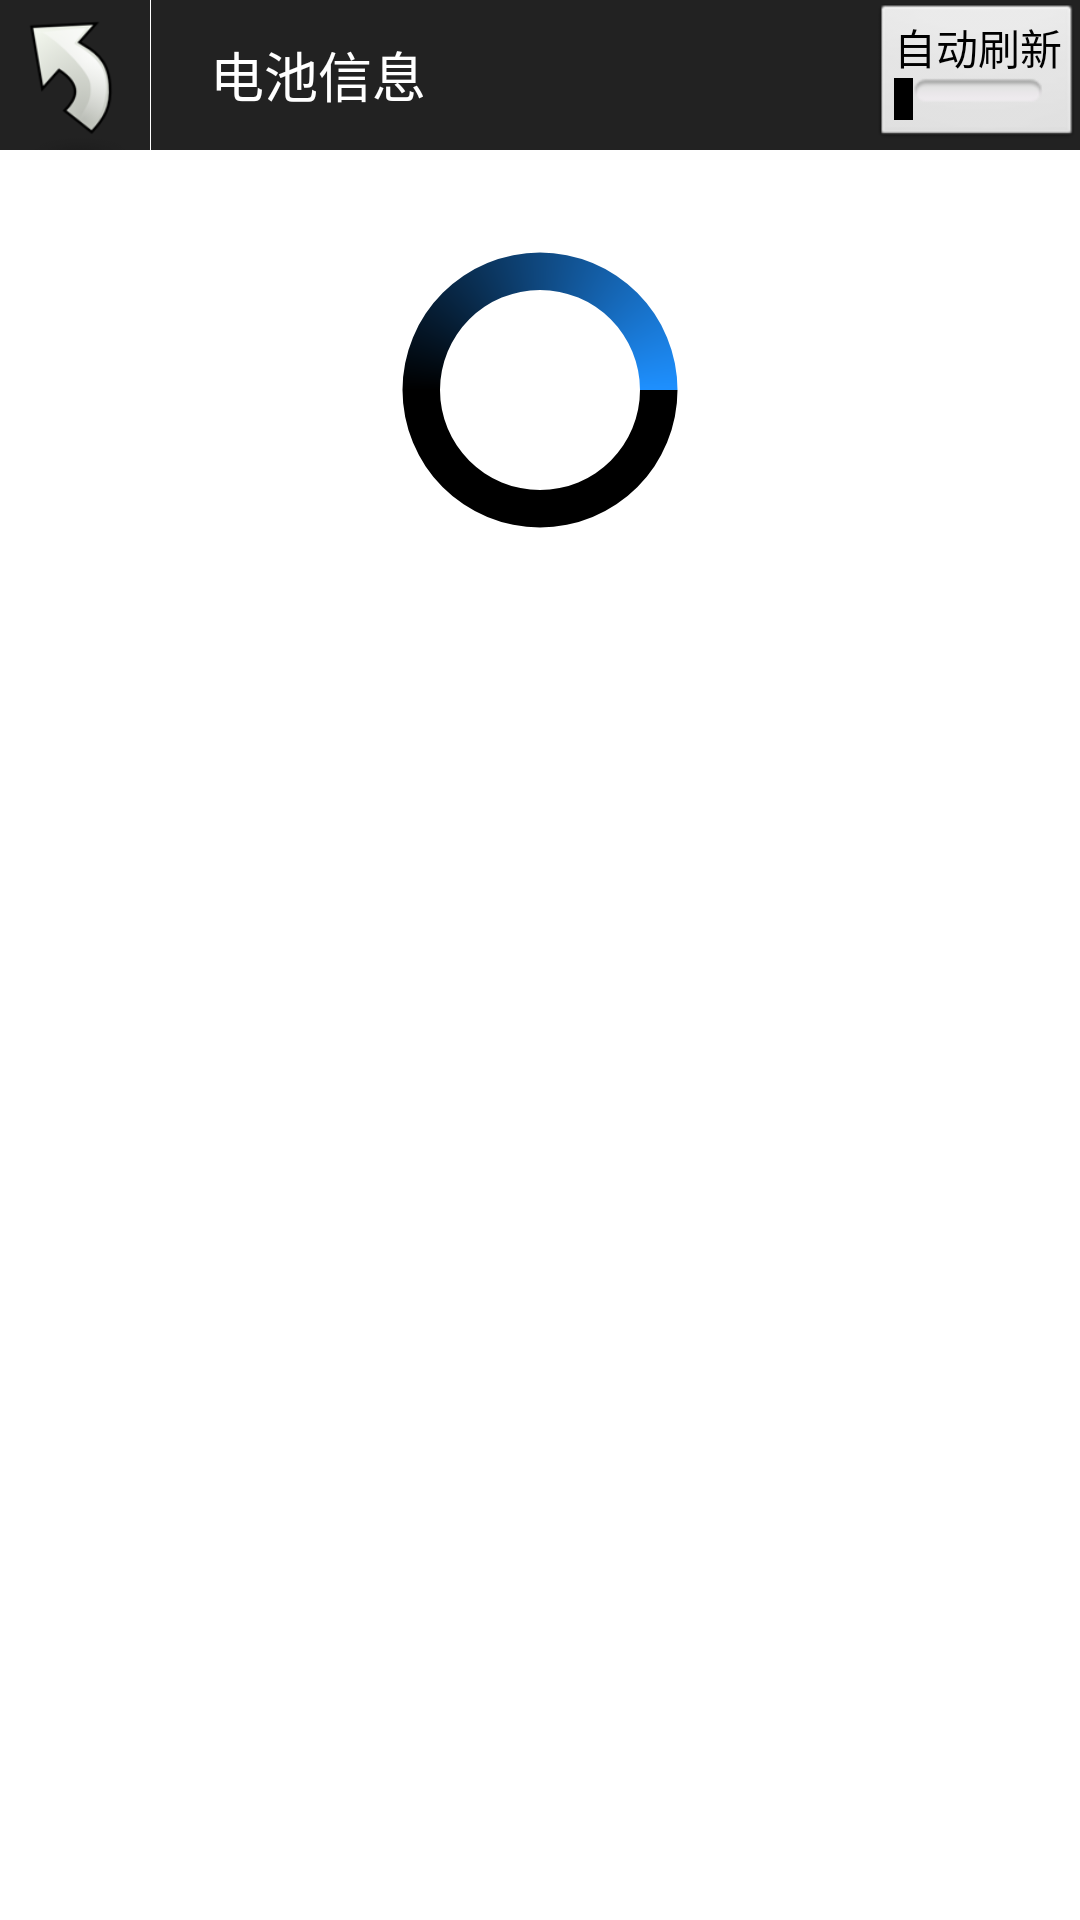

Icons on this 1080×1920 Android screen, each with the point to tap as (x,y):
back: (71,78)
